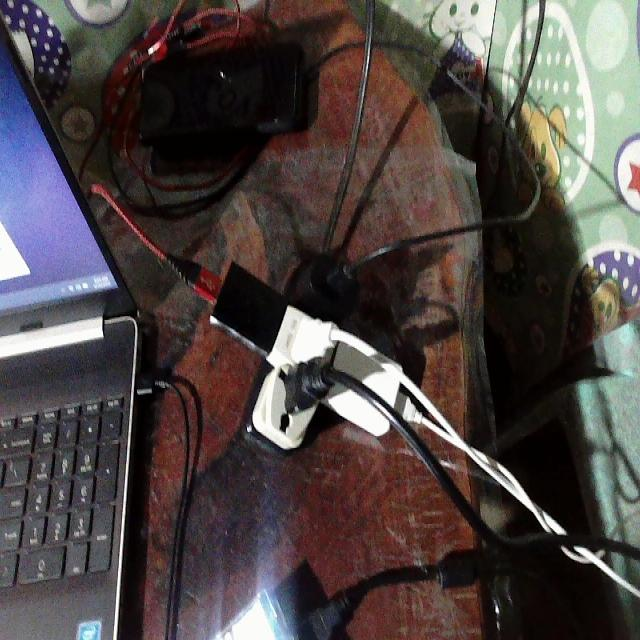-: (183, 235, 438, 453)
